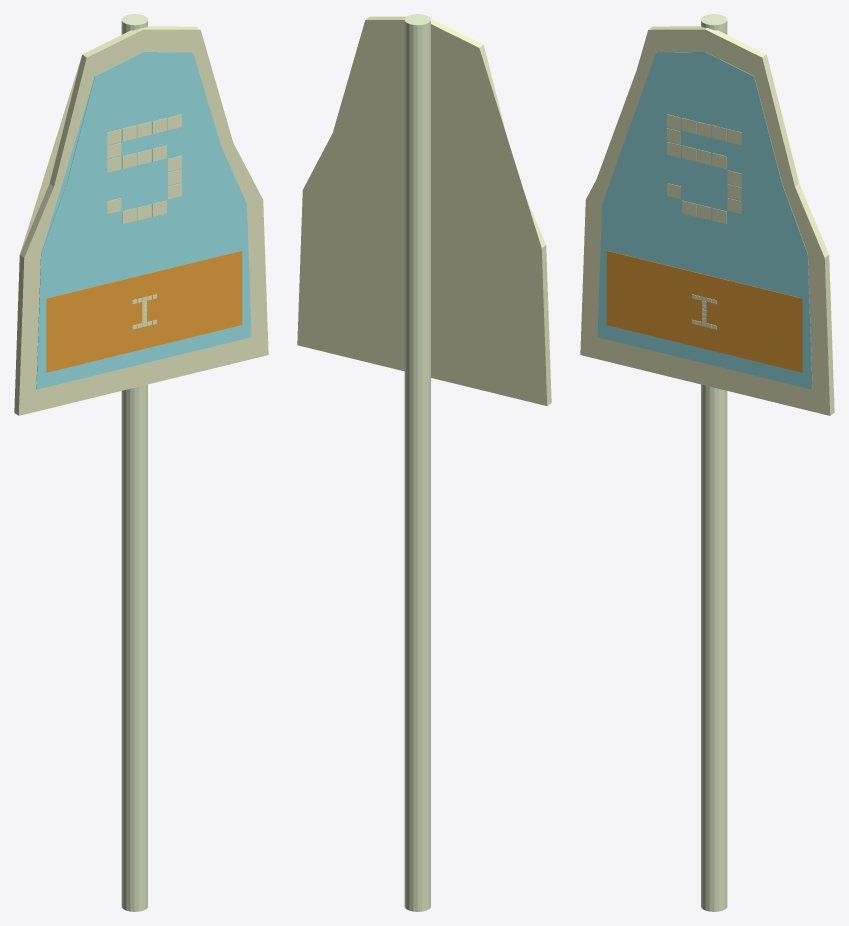
File: sign_route_interstate_5_shield.glb
3 renders of one model, left to right at view 1: azimuth 30°, elevation 25°; view 2: azimuth 150°, elevation 25°; view 3: azimuth 330°, elevation 25°, orthographic.
Visible parts, largest first — view 1: layer_1_00, plate_base_00, pole, layer_2_00; view 2: plate_base_00, pole; view 3: layer_1_00, plate_base_00, pole, layer_2_00.
Boxes of the visible parts, x1=… form: layer_1_00: x1=36, y1=52, x2=251, y2=389; plate_base_00: x1=14, y1=26, x2=268, y2=415; pole: x1=121, y1=14, x2=147, y2=911; layer_2_00: x1=46, y1=251, x2=242, y2=372; plate_base_00: x1=297, y1=16, x2=551, y2=405; pole: x1=404, y1=14, x2=430, y2=911; layer_1_00: x1=597, y1=52, x2=812, y2=389; plate_base_00: x1=580, y1=26, x2=834, y2=415; pole: x1=701, y1=14, x2=727, y2=911; layer_2_00: x1=606, y1=251, x2=802, y2=372.
Size of the model in its own units: 0.6488 by 2.2 by 0.074.
